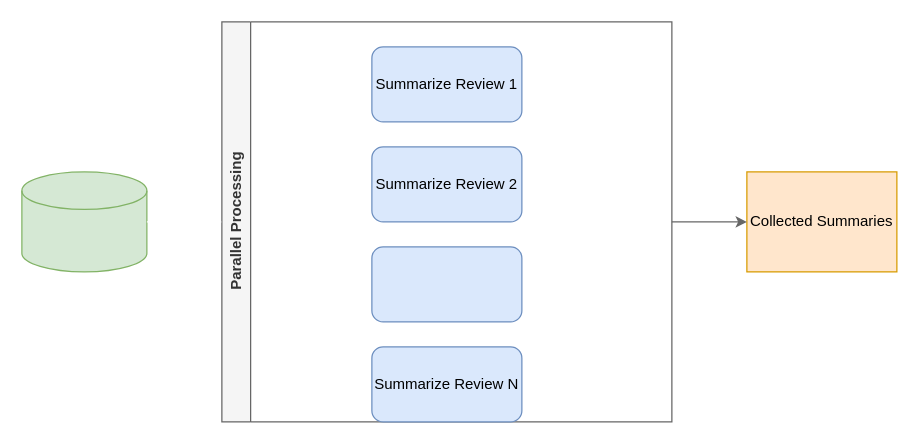
The diagram is 919 pixels wide and 444 high, and some of its shapes have lost their labels. The centre of each missing label's shape, as x and y in pixels:
Product Reviews: [84,221]
Summarize Review 3: [446,284]
